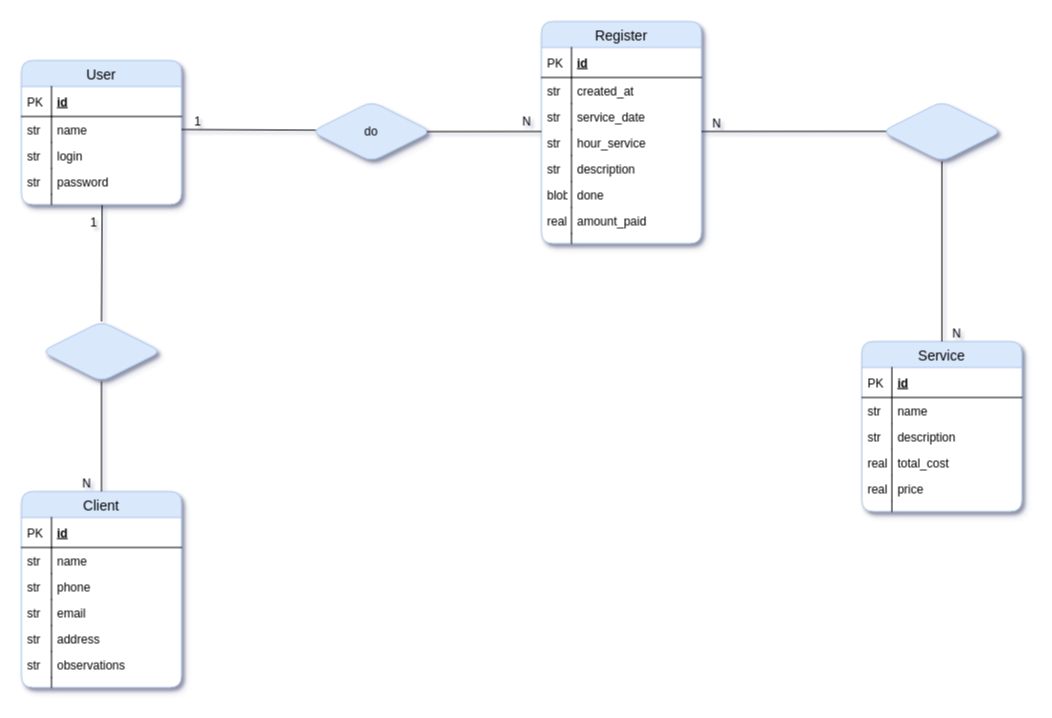
This 1052x718 diagram has some shape labels left out. Each missing label, with the centre of its shape:
"has" belongs at point (102, 352).
"register_services" belongs at point (942, 132).
